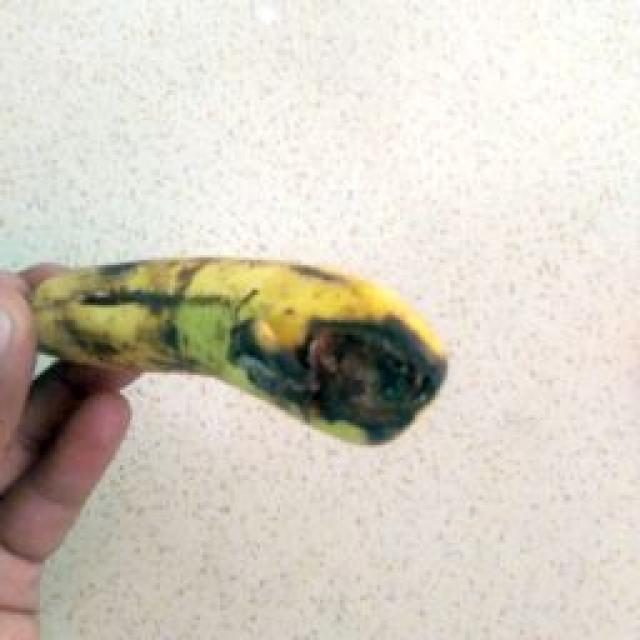banana: (16, 132, 515, 551)
